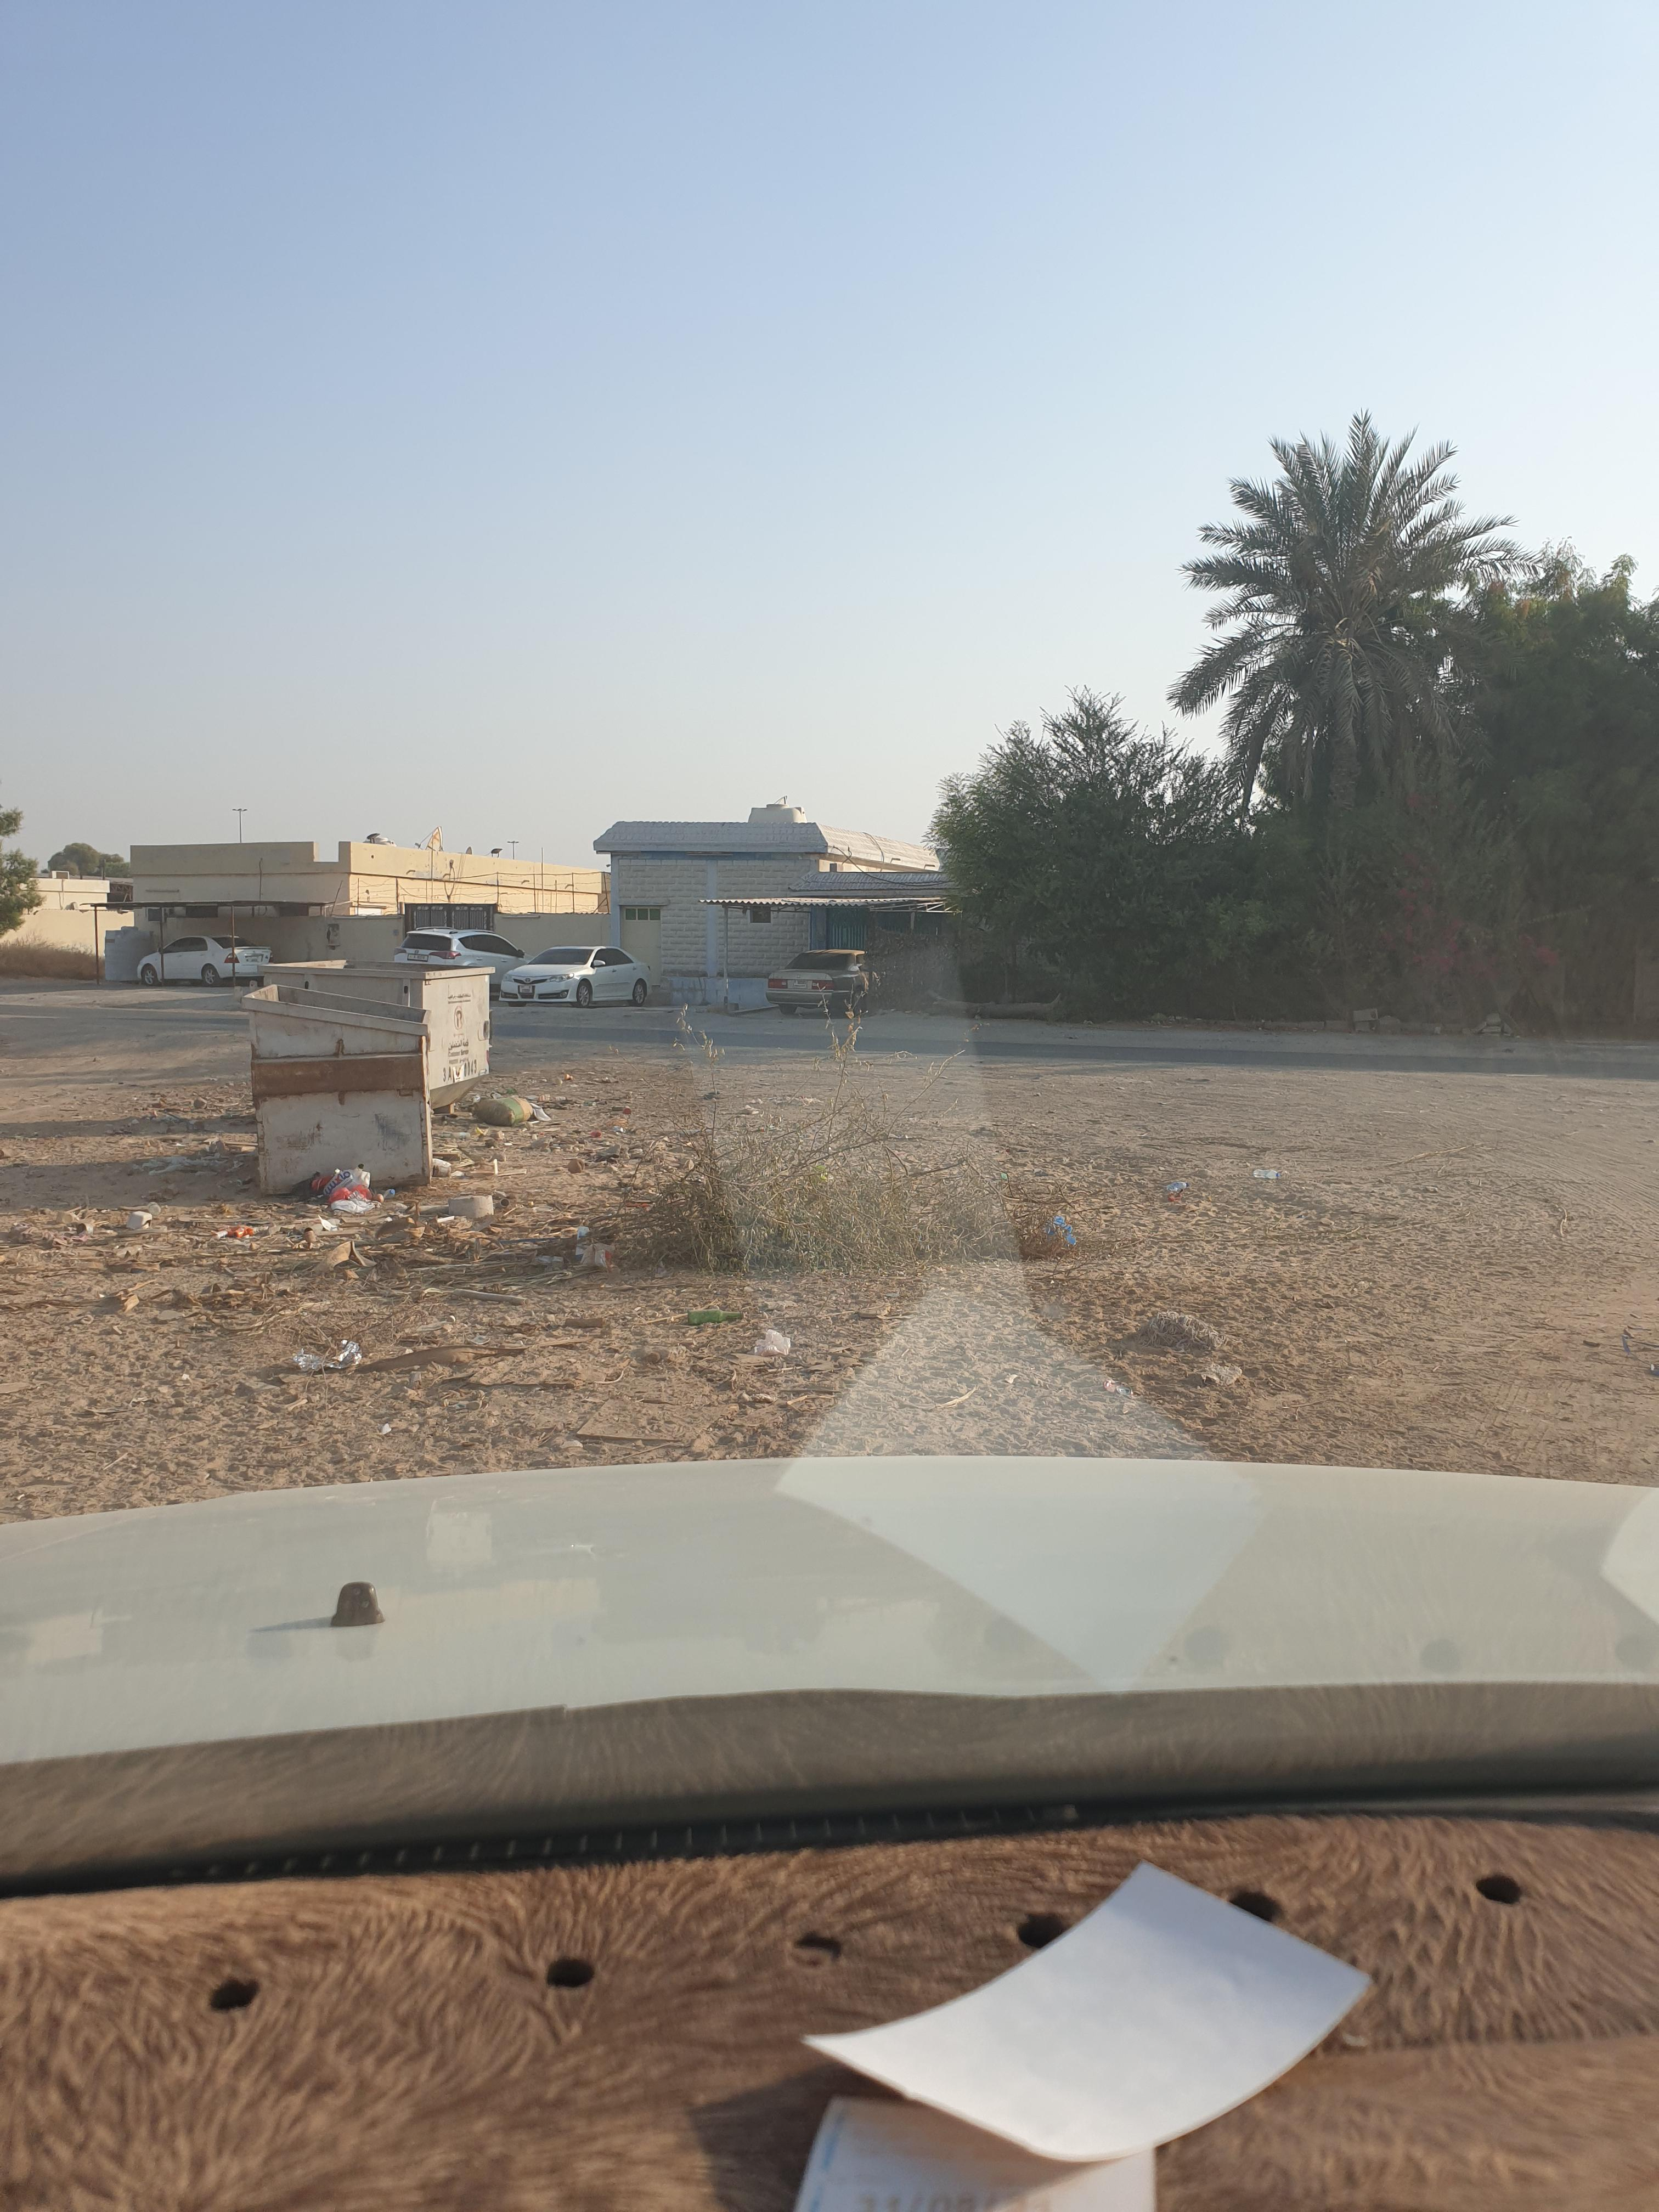fallen_trees: (662, 1066, 1202, 1305), (314, 1195, 951, 1325)
